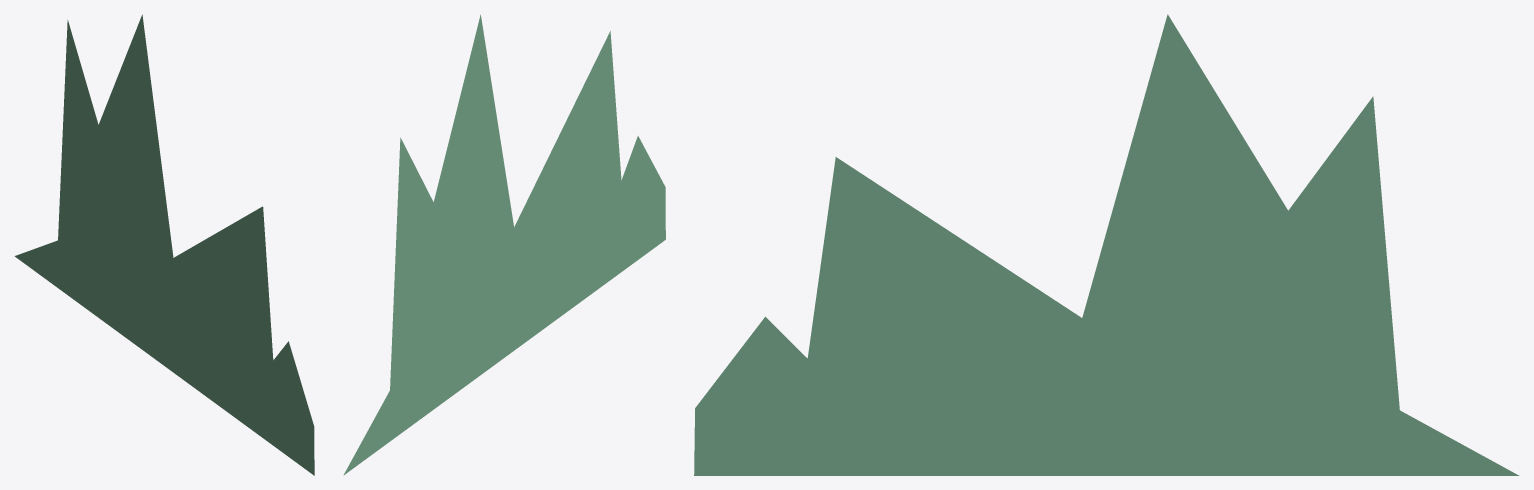
The model's file is grass-4.obj.
3 renders of one model, left to right at view 1: azimuth 30°, elevation 25°; view 2: azimuth 150°, elevation 25°; view 3: azimuth 270°, elevation 25°, orthographic. The views are drawn at different scales.
Parts seen in each view (by area): view 1: Plane.006; view 2: Plane.006; view 3: Plane.006.
Part boxes in pixels (x1,y1,x2,y2): Plane.006: (14,14,314,475); Plane.006: (343,14,665,475); Plane.006: (694,14,1519,475).
Size of the model in its own units: 0 by 0.187 by 0.3029.
Materials: 1 (1 with a texture image).
